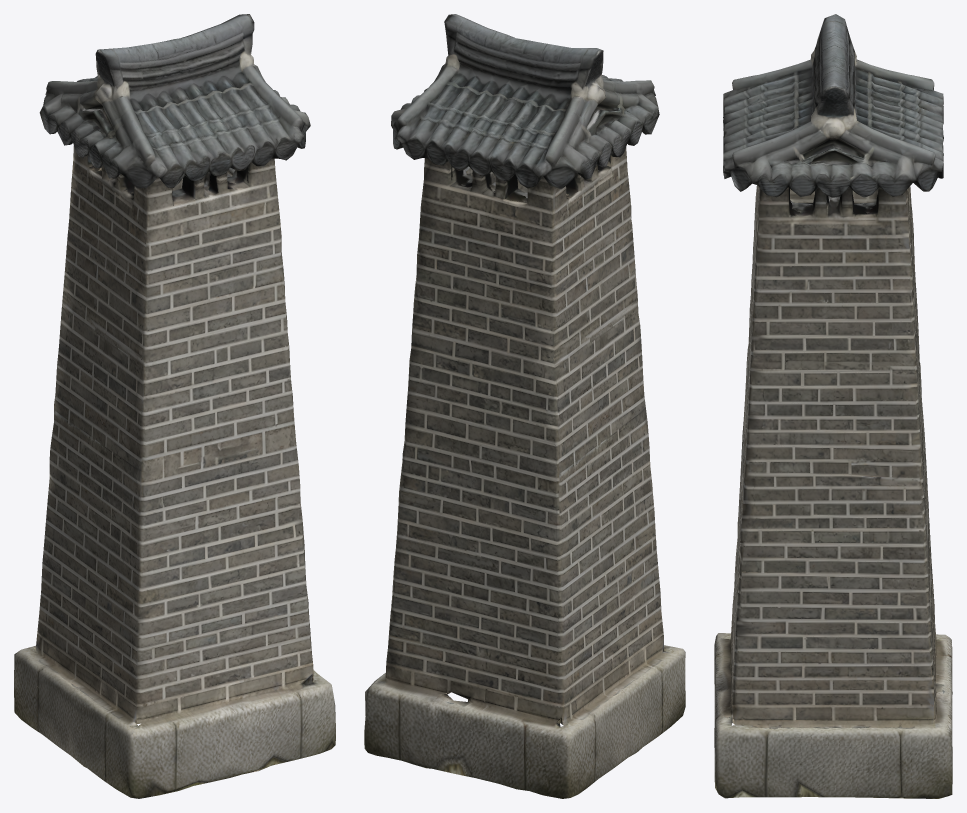
The model's file is chimney.fbx.
The picture shows the model from 3 angles, left to right: view 1: azimuth 30°, elevation 25°; view 2: azimuth 150°, elevation 25°; view 3: azimuth 270°, elevation 25°; orthographic projection.
Visible parts, largest first — view 1: texture_mapping; view 2: texture_mapping; view 3: texture_mapping.
Boxes of the visible parts, <box> form: texture_mapping: <box>14,14,335,798</box>; texture_mapping: <box>364,14,685,798</box>; texture_mapping: <box>714,14,952,798</box>.
Size of the model in its own units: 0.3103 by 0.3093 by 1.
Materials: 1 (1 with a texture image).
